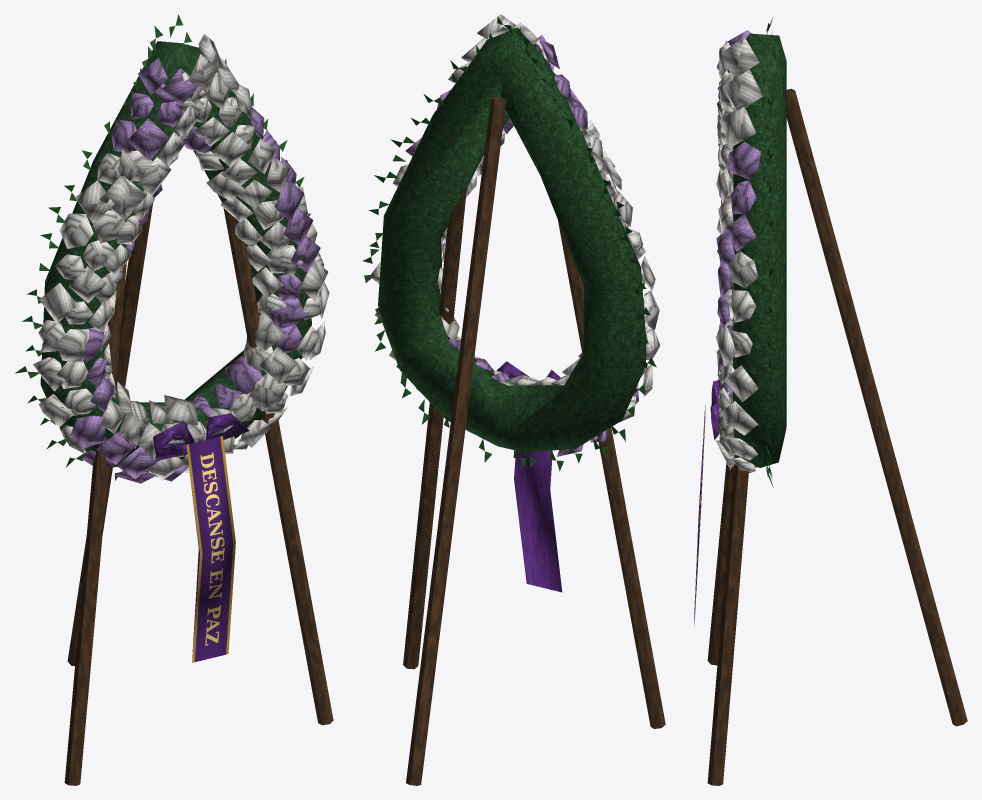
Rendered from corona_lagrima_lod.obj.
3 views of the same model, side by side, from view 1: azimuth 30°, elevation 25°; view 2: azimuth 150°, elevation 25°; view 3: azimuth 270°, elevation 25° (orthographic). The views are drawn at different scales.
Parts seen in each view (by area): view 1: Flores_Petalo_Blanco, Flores_Petalo_Lila, Base, Liston, Cylinder.001, Cylinder, Cylinder.002, Mono, Flores_Hoja_Verde_Oscuro; view 2: Base, Cylinder.002, Flores_Petalo_Blanco, Cylinder.001, Cylinder, Liston, Flores_Hoja_Verde_Oscuro, Flores_Petalo_Lila; view 3: Base, Cylinder.002, Flores_Petalo_Blanco, Cylinder.001, Flores_Petalo_Lila, Cylinder, Flores_Hoja_Verde_Oscuro, Liston.
Boxes of the visible parts, x1,y1,x2,y2 form: Flores_Petalo_Blanco: [33, 34, 329, 480]; Flores_Petalo_Lila: [70, 58, 320, 483]; Base: [40, 41, 311, 467]; Liston: [186, 436, 235, 662]; Cylinder.001: [223, 208, 333, 725]; Cylinder: [64, 262, 126, 785]; Cylinder.002: [67, 202, 153, 666]; Mono: [153, 413, 249, 460]; Flores_Hoja_Verde_Oscuro: [15, 14, 310, 480]; Base: [378, 27, 646, 452]; Cylinder.002: [406, 97, 506, 785]; Flores_Petalo_Blanco: [371, 14, 660, 422]; Cylinder.001: [403, 188, 466, 669]; Cylinder: [558, 221, 665, 728]; Liston: [514, 450, 562, 592]; Flores_Hoja_Verde_Oscuro: [363, 16, 656, 471]; Flores_Petalo_Lila: [405, 35, 638, 456]; Base: [733, 33, 786, 467]; Cylinder.002: [786, 88, 967, 726]; Flores_Petalo_Blanco: [715, 36, 762, 473]; Cylinder.001: [707, 435, 749, 785]; Flores_Petalo_Lila: [716, 30, 760, 403]; Cylinder: [707, 462, 733, 665]; Flores_Hoja_Verde_Oscuro: [766, 16, 773, 487]; Liston: [694, 405, 705, 626].
Bounding box in the file's own units: 0.6213 × 1.41 × 0.4916.
Materials: 8 (8 with a texture image).
